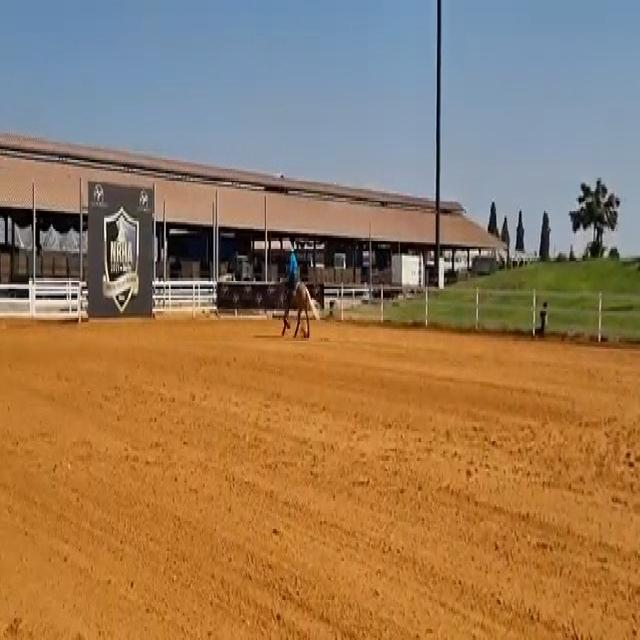horse: (278, 271, 320, 340)
